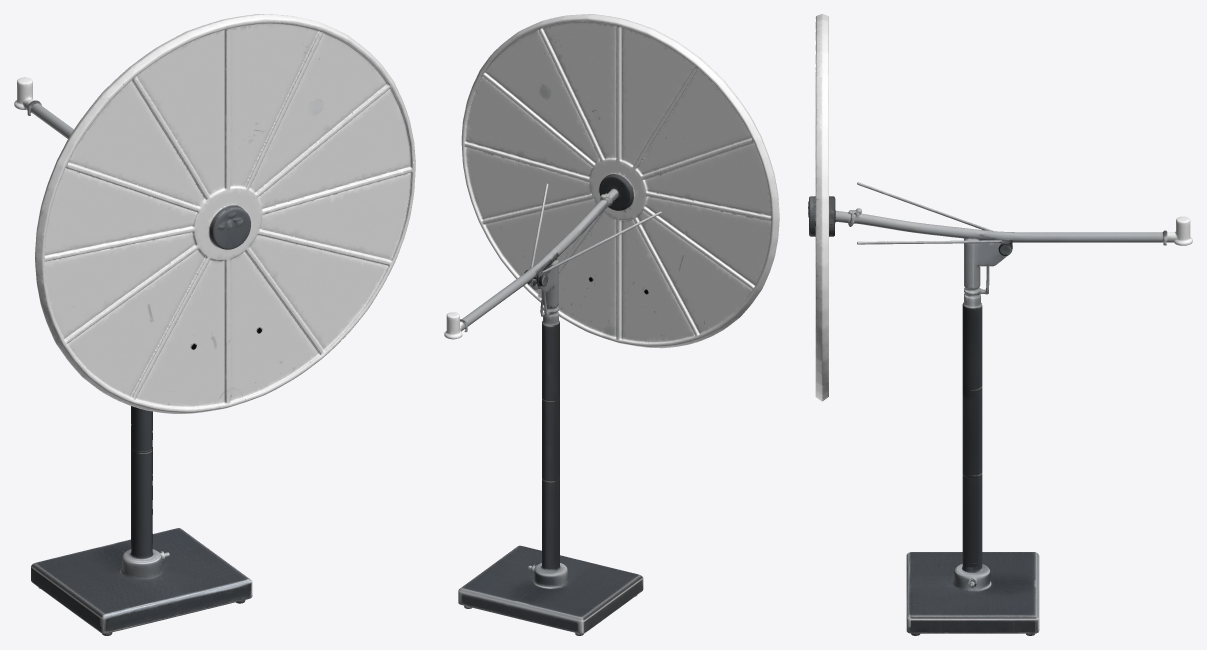
Rendered from dish.glb.
3 views of the same model, side by side, from view 1: azimuth 30°, elevation 25°; view 2: azimuth 150°, elevation 25°; view 3: azimuth 270°, elevation 25° (orthographic). The views are drawn at different scales.
Parts seen in each view (by area): view 1: Mesh_0.001; view 2: Mesh_0.001; view 3: Mesh_0.001.
Boxes of the visible parts, bbox=[...] form: Mesh_0.001: bbox=[14, 14, 415, 635]; Mesh_0.001: bbox=[444, 14, 779, 635]; Mesh_0.001: bbox=[808, 14, 1192, 635].
Bounding box in the file's own units: 0.6266 × 1 × 0.6094.
1 material, 1 textured.
